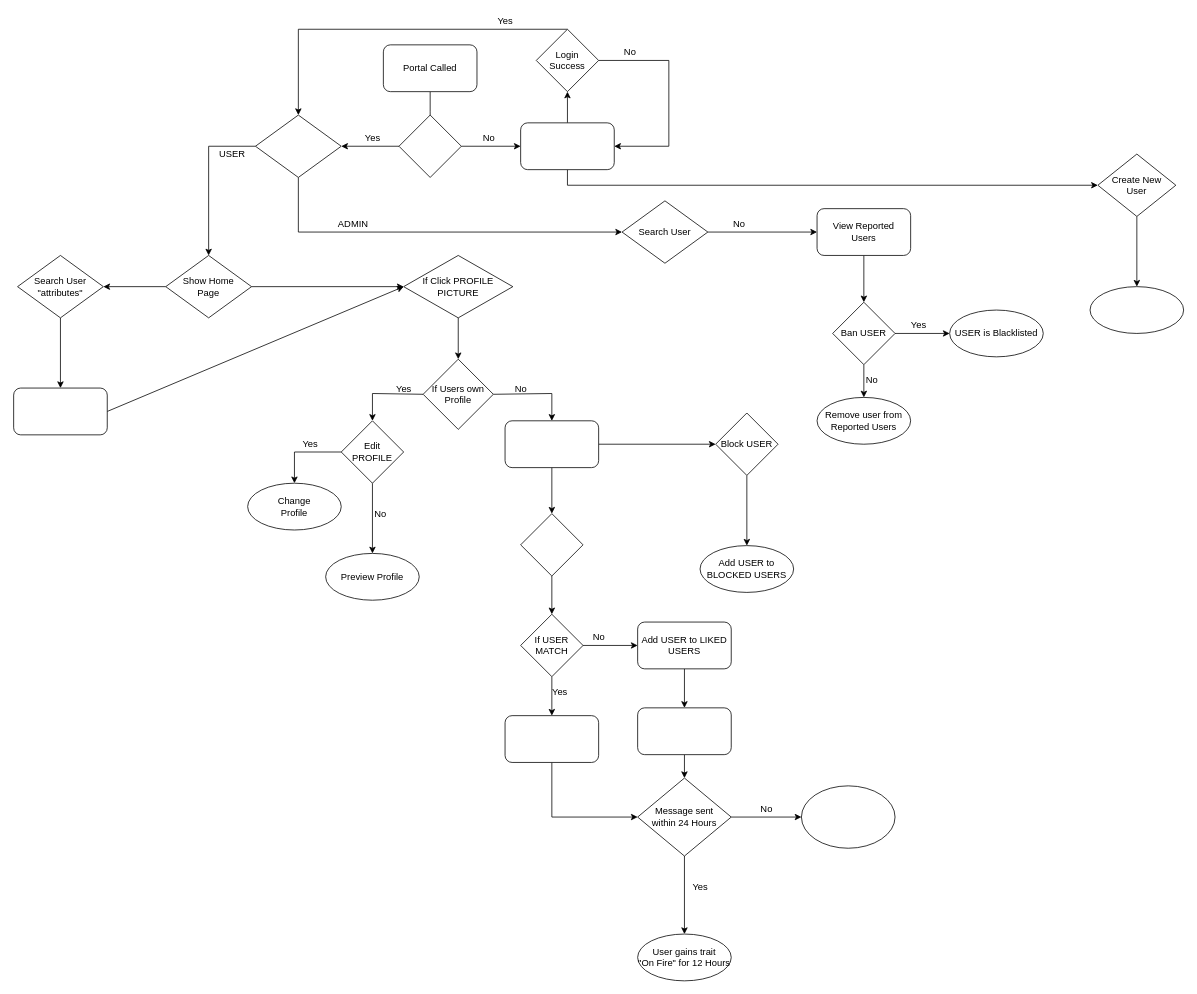
Image size: 1197x994. Some labels were removed from this diagram. Each missing label, with the centre of its shape:
Add User to DATABASE: (x=1136, y=309)
DISPLAY LOGIN SCREEN: (x=567, y=146)
Display Users: (x=60, y=411)
GETUSERTYPE: (x=298, y=145)
Is User Logged in: (x=429, y=145)
Like USER: (x=551, y=544)
Open CHAT WINDOW: (x=551, y=738)
Send NOTIFICATION to User: (x=684, y=731)
Show PROFILE: (x=551, y=444)
User gains trait "Frosty" for 48 Hours: (x=848, y=816)
